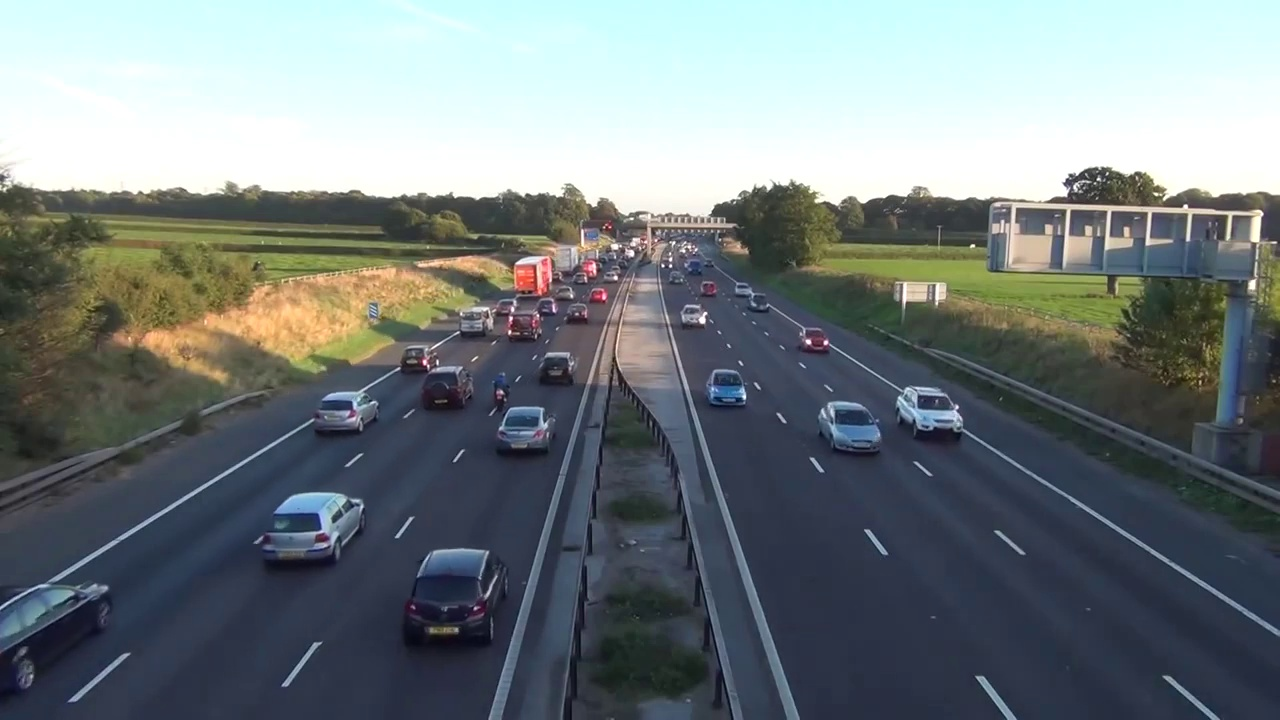bus: (5, 577, 114, 695), (399, 546, 519, 652), (260, 484, 365, 570), (892, 384, 973, 442), (814, 400, 883, 457), (311, 386, 380, 437), (420, 363, 477, 415), (495, 407, 555, 453), (705, 370, 755, 412), (534, 350, 584, 383), (398, 339, 434, 377), (797, 327, 833, 355), (680, 304, 707, 330), (496, 297, 521, 318), (566, 303, 589, 324), (746, 293, 769, 313), (536, 298, 558, 316), (587, 287, 608, 305), (698, 280, 718, 298), (733, 282, 754, 299), (554, 286, 576, 300), (573, 271, 589, 284), (604, 271, 619, 284), (670, 271, 684, 284), (615, 259, 629, 270), (660, 260, 673, 271), (703, 257, 715, 268), (552, 271, 563, 283), (609, 266, 622, 275), (681, 260, 692, 270), (595, 263, 603, 271)
car: (511, 256, 553, 298), (555, 245, 579, 278)
jeep: (490, 370, 511, 410)
lorry: (458, 306, 496, 339), (508, 309, 544, 343), (578, 254, 584, 268)
minibus: (581, 261, 597, 281), (687, 259, 703, 275)
